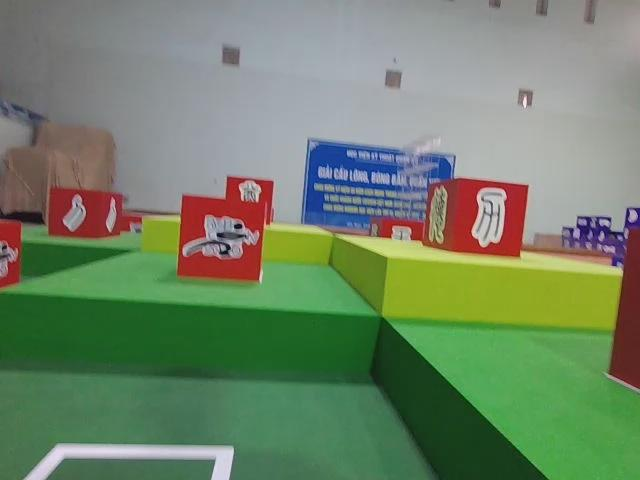R1: (175, 191, 267, 285), (0, 216, 23, 293)
R2 Fake: (423, 175, 531, 261)
R2 Real: (45, 183, 125, 238)
